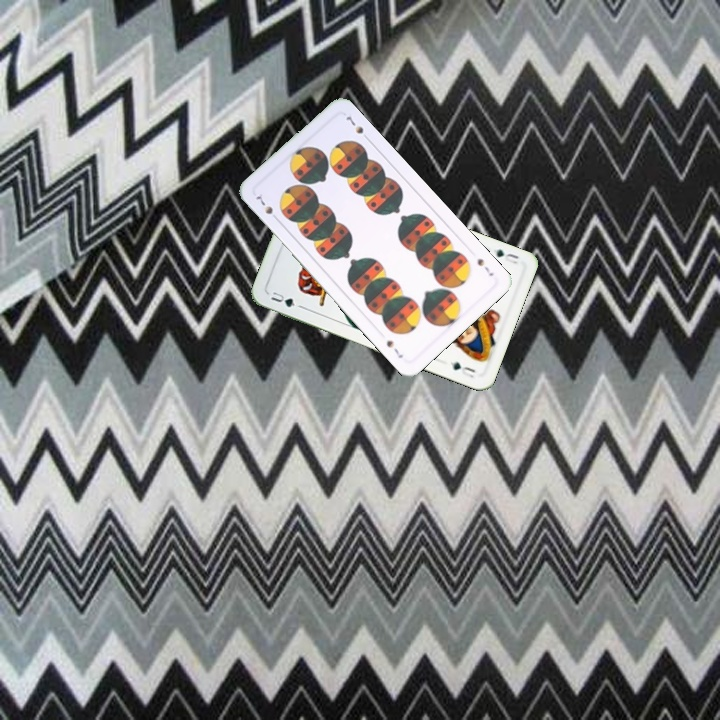GU: (267, 288, 304, 310), (489, 245, 522, 267)
S7: (252, 192, 282, 224), (473, 254, 496, 279)
